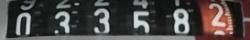digits: (208, 2, 228, 28), (93, 8, 110, 36), (131, 11, 150, 35), (172, 8, 190, 33), (54, 10, 70, 36), (15, 12, 31, 37)
